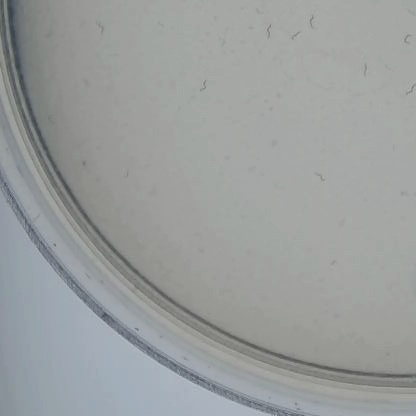worm: (300, 169, 332, 200), (114, 168, 134, 197), (287, 22, 303, 58), (189, 75, 216, 96), (395, 28, 414, 55), (264, 11, 281, 41), (91, 10, 111, 35), (355, 56, 372, 84), (398, 76, 416, 99), (311, 7, 326, 33), (324, 255, 338, 275)
